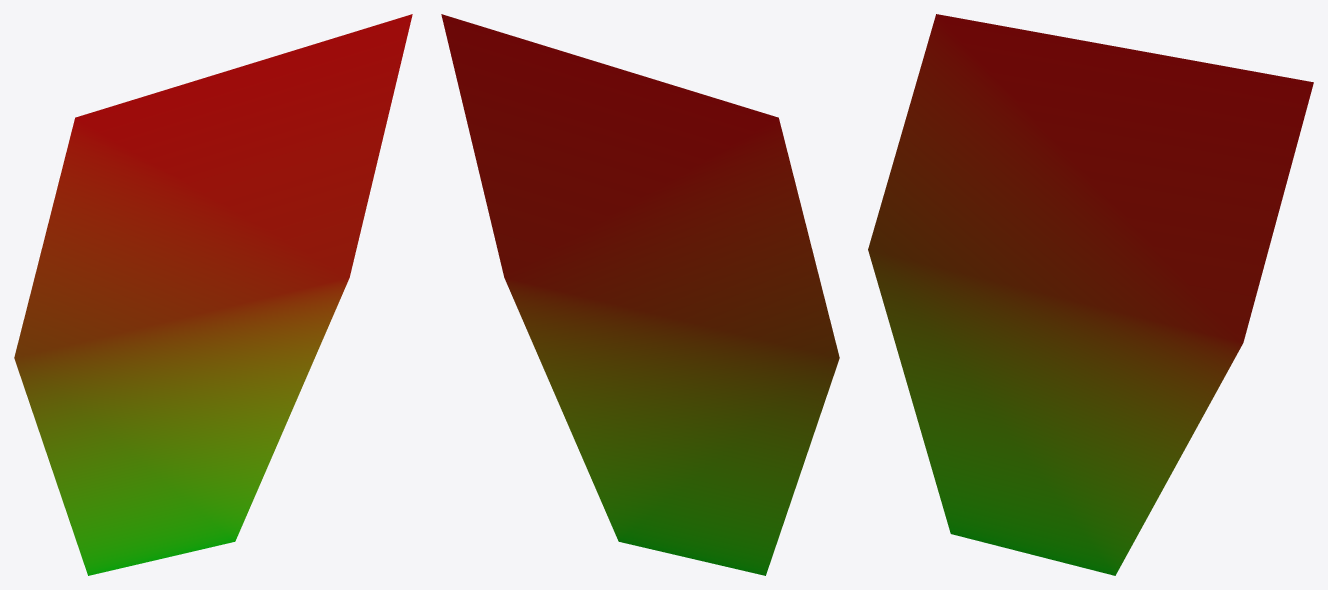
The model's file is Var4_LOD5.fbx.
3 renders of one model, left to right at view 1: azimuth 30°, elevation 25°; view 2: azimuth 150°, elevation 25°; view 3: azimuth 330°, elevation 25°, orthographic. The views are drawn at different scales.
Visible parts, largest first — view 1: _b66c_Var4_LOD5; view 2: _b66c_Var4_LOD5; view 3: _b66c_Var4_LOD5.
Boxes of the visible parts, <box> form: _b66c_Var4_LOD5: <box>14,14,412,575</box>; _b66c_Var4_LOD5: <box>441,14,839,575</box>; _b66c_Var4_LOD5: <box>868,14,1313,575</box>.
Bounding box in the file's own units: 71.99 × 83.62 × 1.32e-05.
